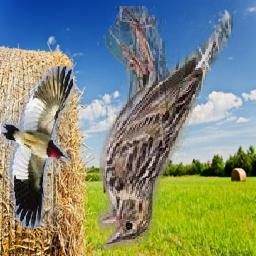Sparrow: (95, 7, 234, 252)
Woodpecker: (1, 66, 73, 228)
